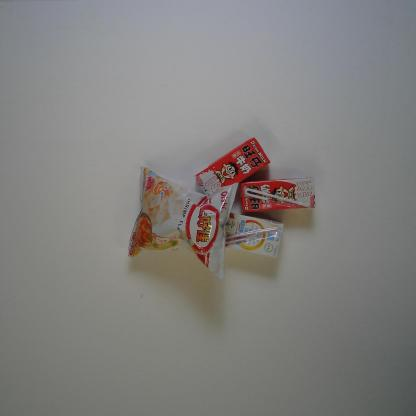Milk: (193, 137, 271, 200), (239, 176, 316, 212), (224, 212, 284, 258)
Puffed Food: (126, 165, 240, 282)
